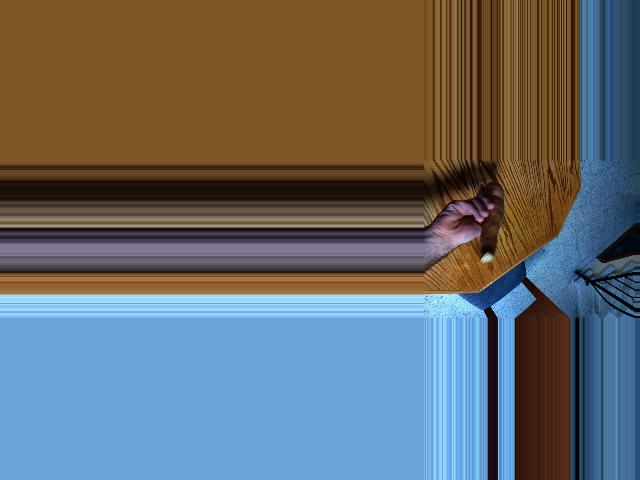sweet_potato: (472, 181, 507, 260)
